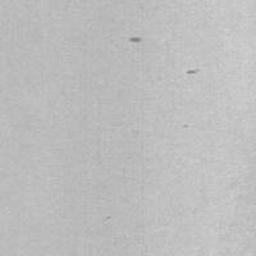Inclusion: (184, 67, 202, 76), (128, 36, 142, 44)
